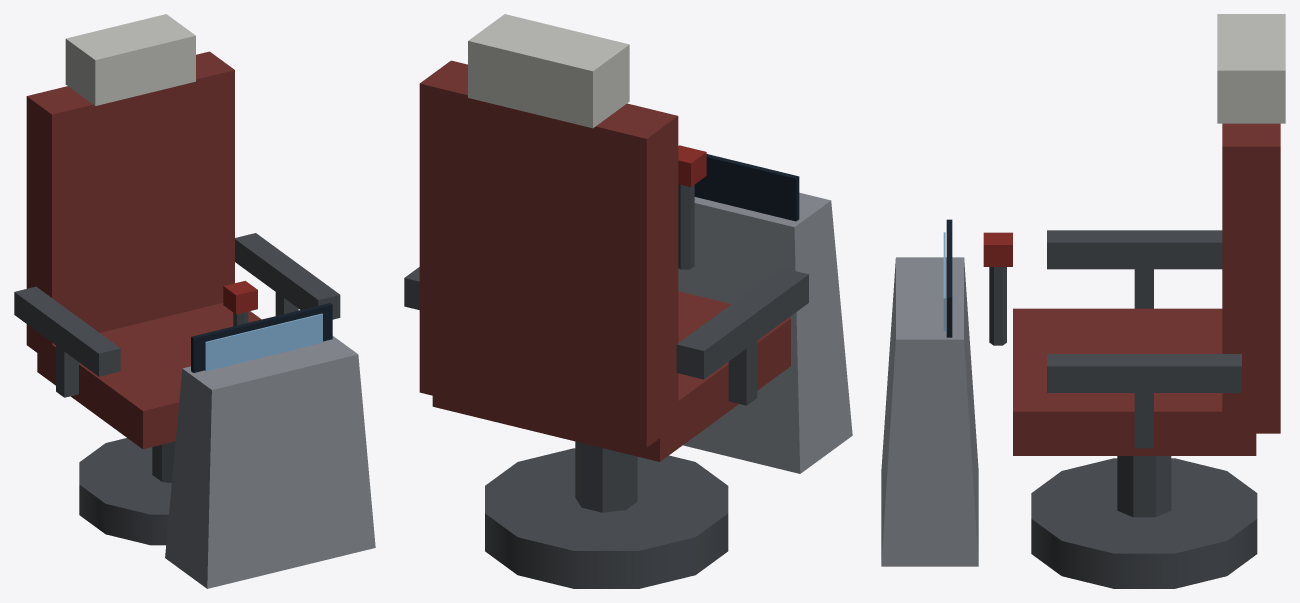
Rendered from republic_seat.glb.
The picture shows the model from 3 angles, left to right: view 1: azimuth 30°, elevation 25°; view 2: azimuth 150°, elevation 25°; view 3: azimuth 270°, elevation 25°; orthographic projection. The views are drawn at different scales.
Visible parts, largest first — view 1: republic_seat; view 2: republic_seat; view 3: republic_seat.
Boxes of the visible parts, x1,y1,x2,y2 form: republic_seat: [14, 14, 375, 588]; republic_seat: [404, 14, 852, 588]; republic_seat: [881, 14, 1285, 588].
Size of the model in its own units: 0.66 by 1.13 by 0.83.
